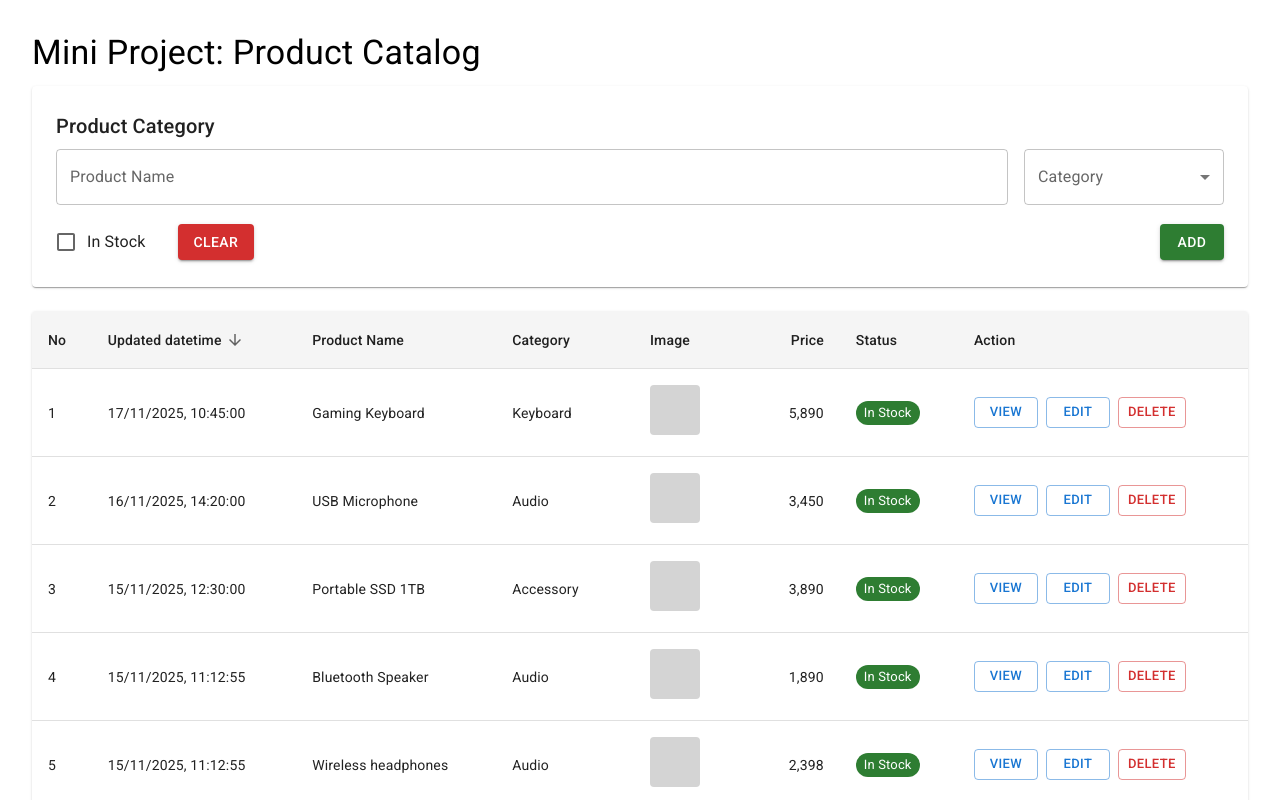
Product Categories Feature Tests › CRUD Operations › should open form dialog when Add button is clicked
This screenshot has width=1280, height=800.
Click the button with test id "add-button". click: {"x": 1192, "y": 242}
box: [1160,224,1224,260]
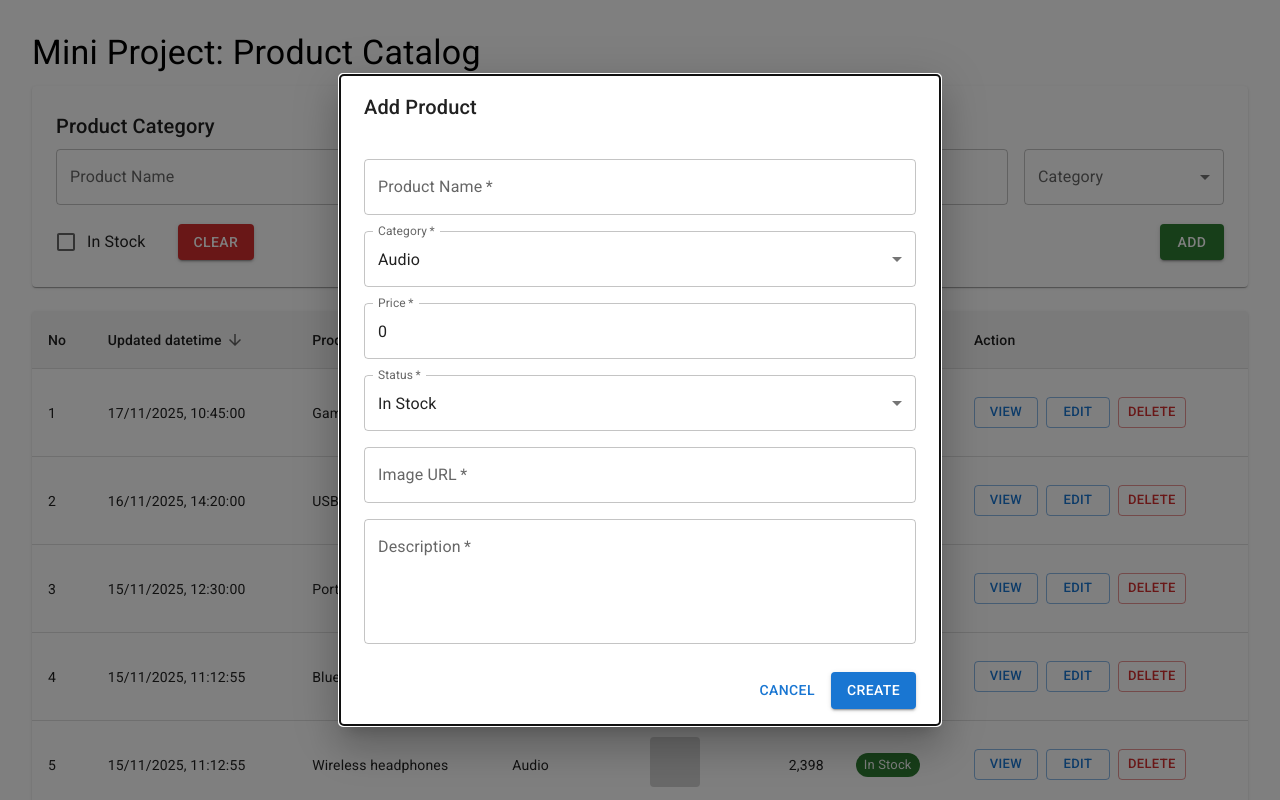
Expected: the heading "Add Product" is shown, [364,95,477,119]
